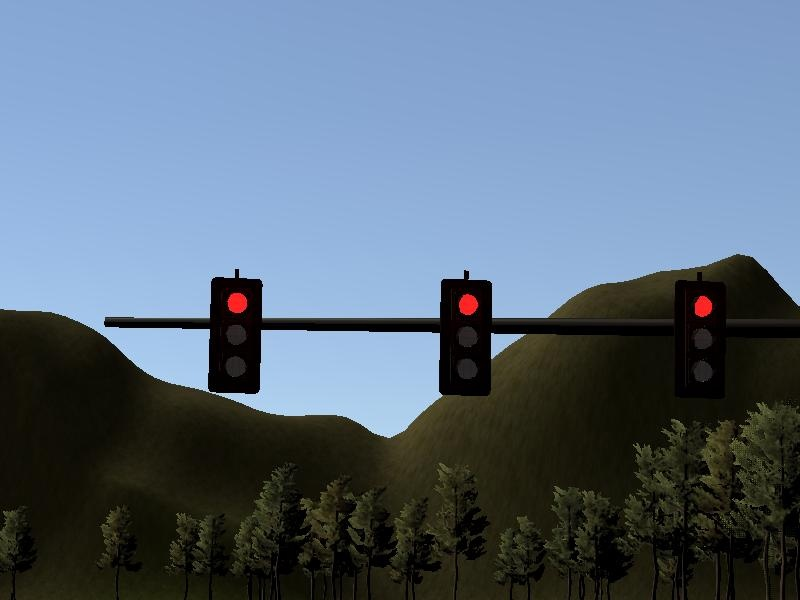traffic_light_red: (184, 270, 746, 399)
